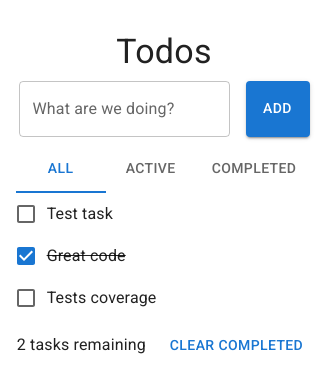
it: MainPage › adds new task
Type "Test" into the field labelled "What are we doing?" at (124, 109), box 18,81 -> 230,137
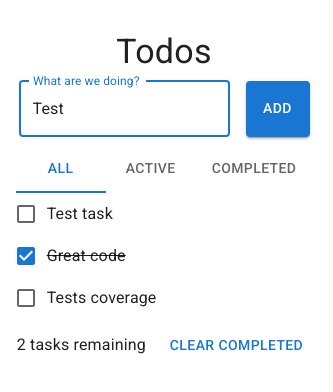
Click the button "Add" at (278, 109), box 246,81 -> 310,137
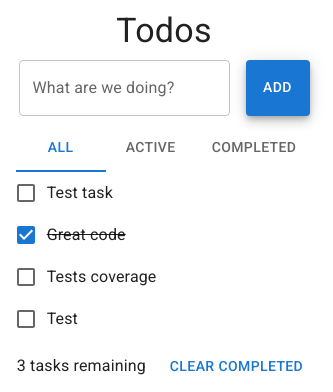
Expected: the text "Test" is shown, 47,307 -> 78,331
